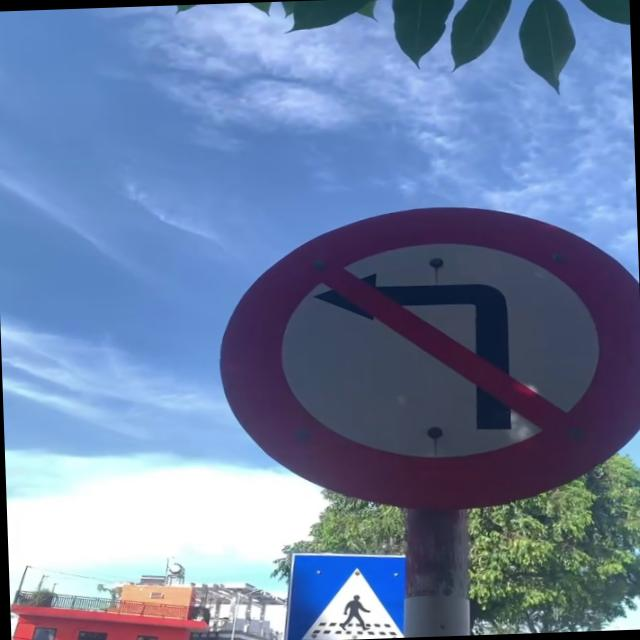Cam_Re_Trai: (209, 196, 640, 530)
